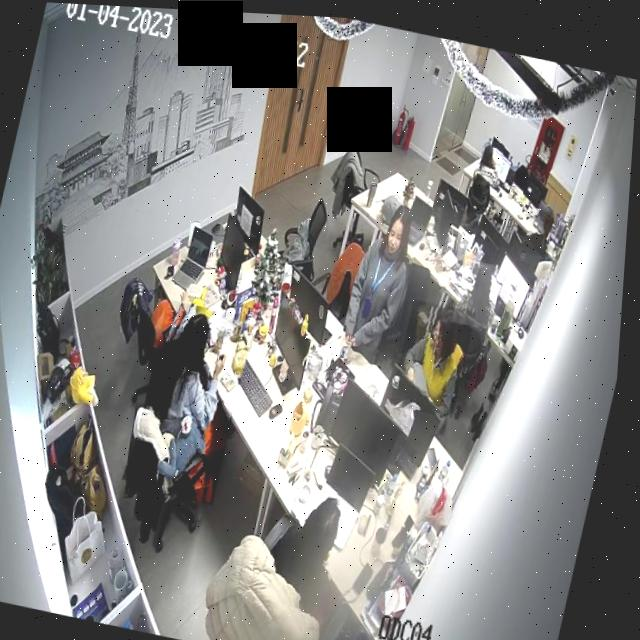person: (131, 296, 260, 504), (341, 190, 429, 365), (272, 479, 360, 612), (395, 294, 481, 414), (455, 254, 508, 325), (525, 202, 561, 252), (475, 134, 507, 182)
